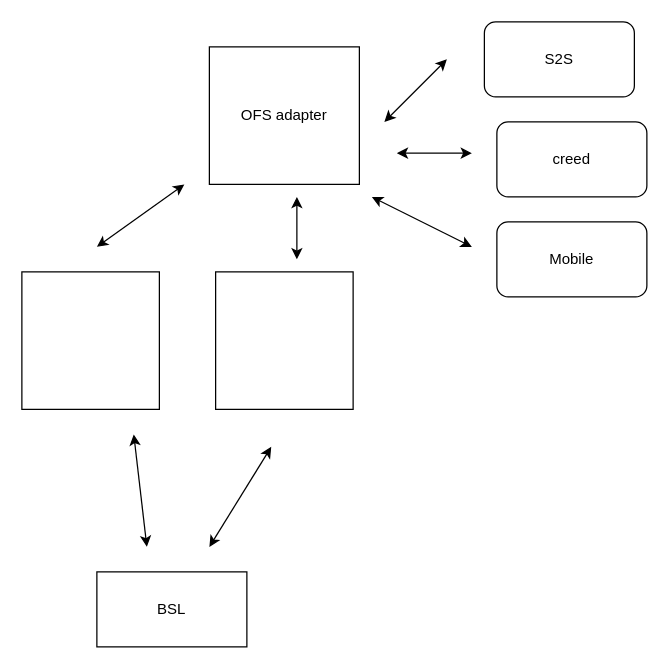
Image size: 669x669. Some labels were removed from this diagram. The shapes that lost their labels are listed below. From the top down, each one's centre as x and y in pixels, then its label:
At point (90, 340): "Offer".
At point (283, 340): "Customer Offer WS".
